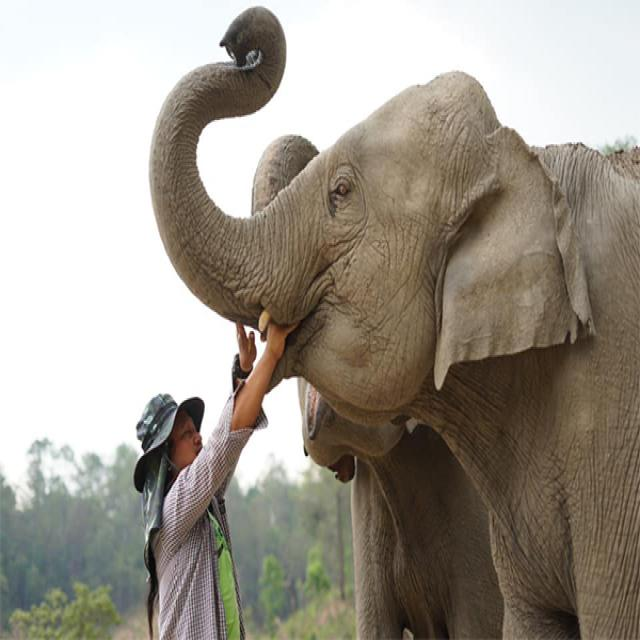Elephant: (146, 2, 640, 640)
